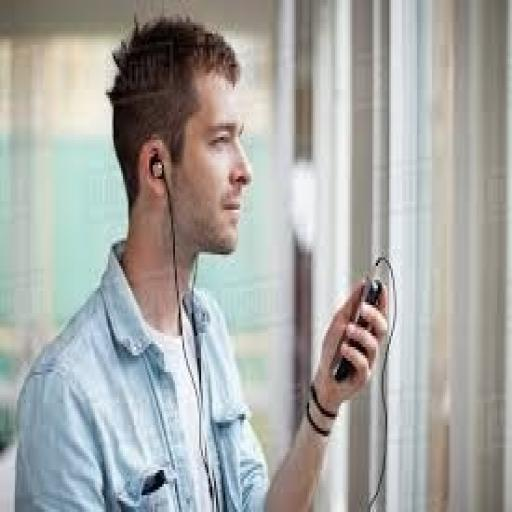listening_to_music: (11, 11, 389, 509)
